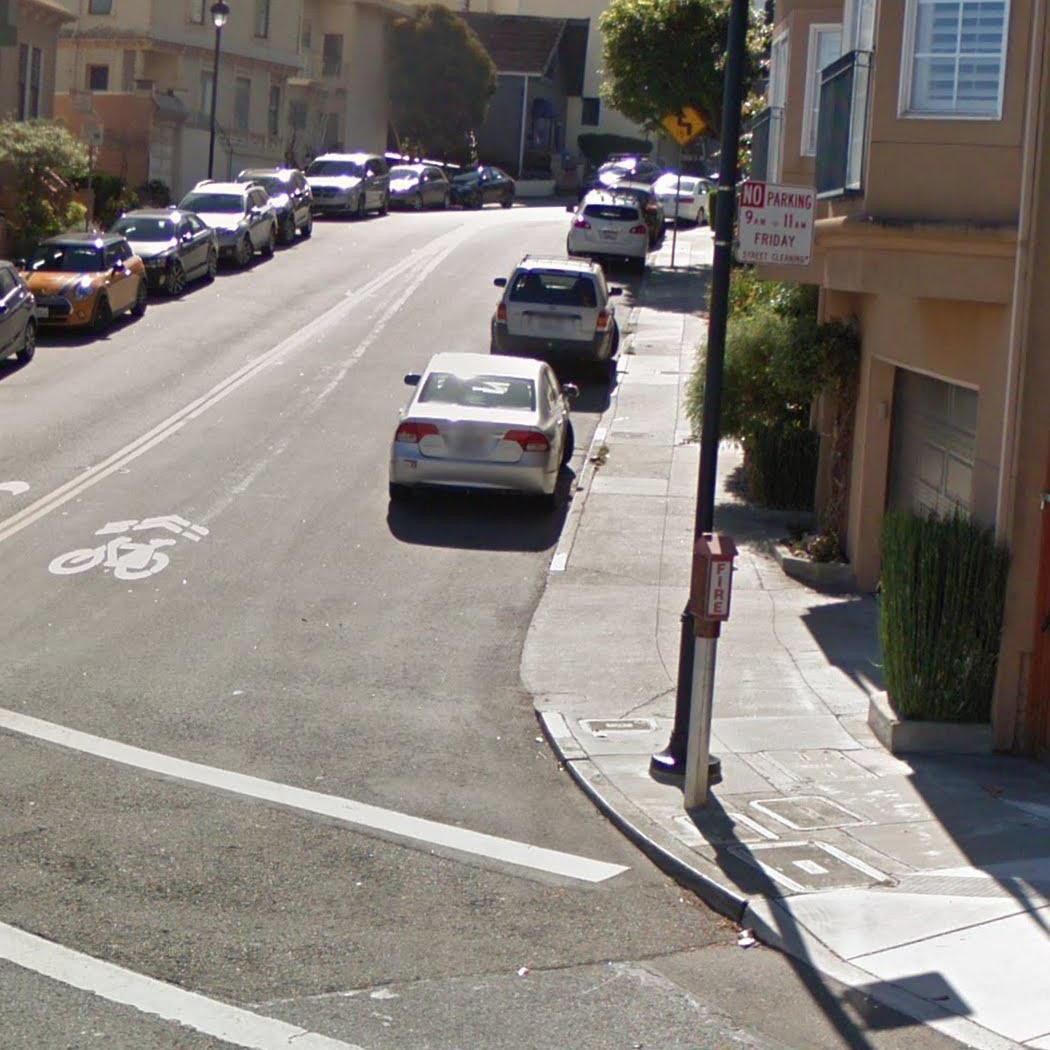No Parking: (732, 174, 821, 271)
